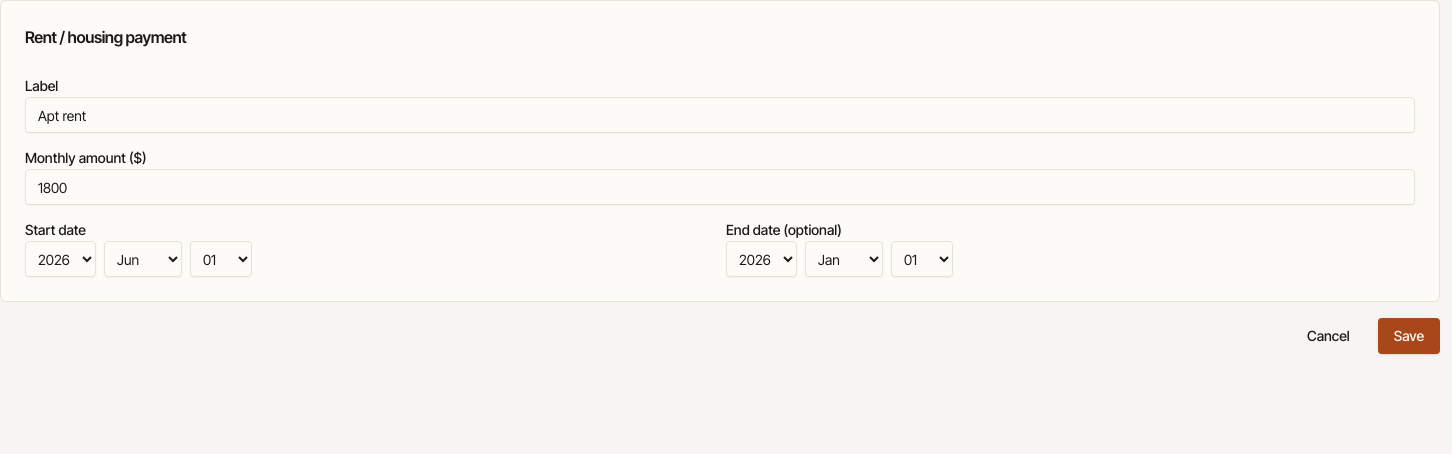
Test: HousingPaymentForm — inline per-field errors (round-3 S6) › the end-date refine lands inline on the End date group
Click the button "Save" at (1409, 336), box left=1378, top=318, right=1440, bottom=354
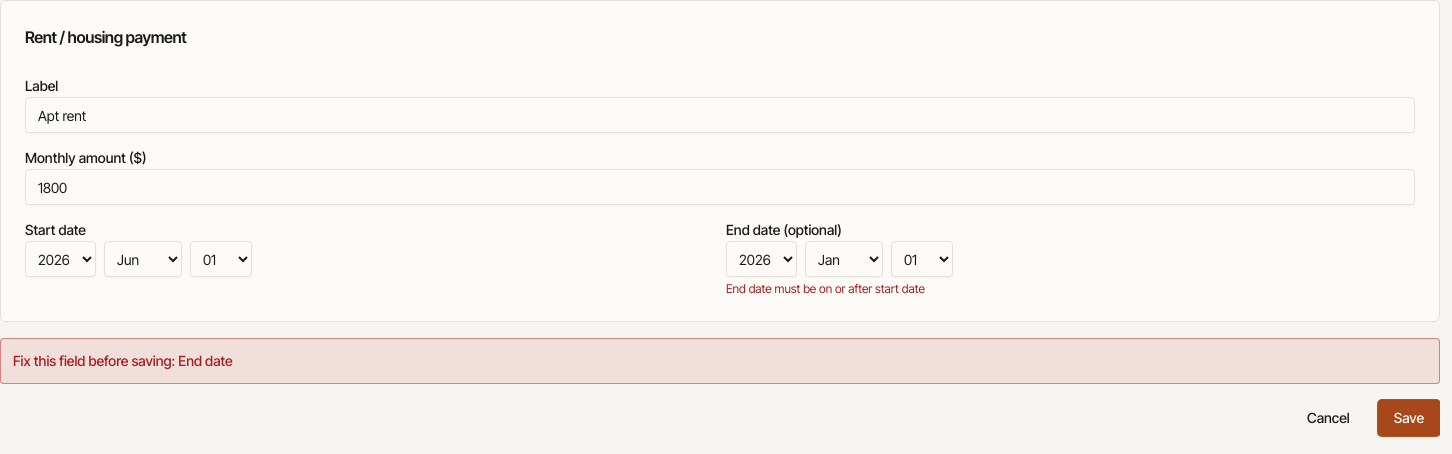
Now the text "End date must be on or after start date" is shown, box left=726, top=281, right=925, bottom=296
